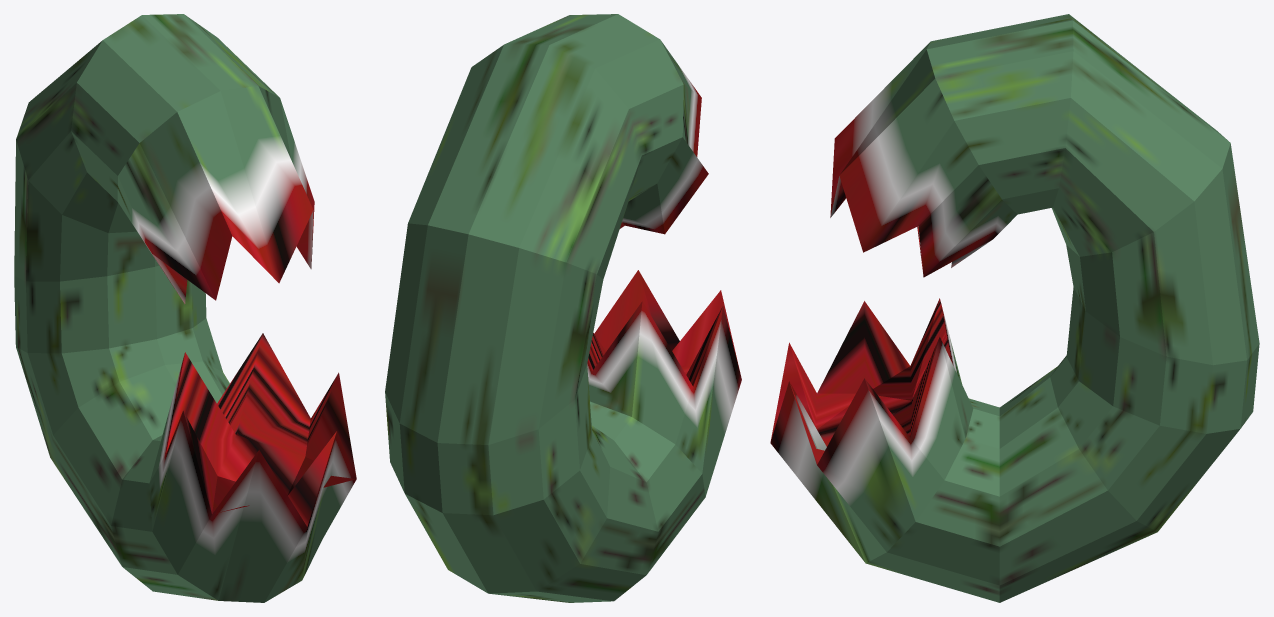
Rendered from Demon_Donut_V0.glb.
3 renders of one model, left to right at view 1: azimuth 30°, elevation 25°; view 2: azimuth 150°, elevation 25°; view 3: azimuth 270°, elevation 25°, orthographic. The views are drawn at different scales.
Parts seen in each view (by area): view 1: Demon-Donut-col; view 2: Demon-Donut-col; view 3: Demon-Donut-col.
Boxes of the visible parts, x1,y1,x2,y2 form: Demon-Donut-col: (14, 14, 356, 602); Demon-Donut-col: (385, 14, 741, 602); Demon-Donut-col: (770, 14, 1259, 602).
Size of the model in its own units: 0.2579 by 0.763 by 0.5983.
1 material, 1 textured.
